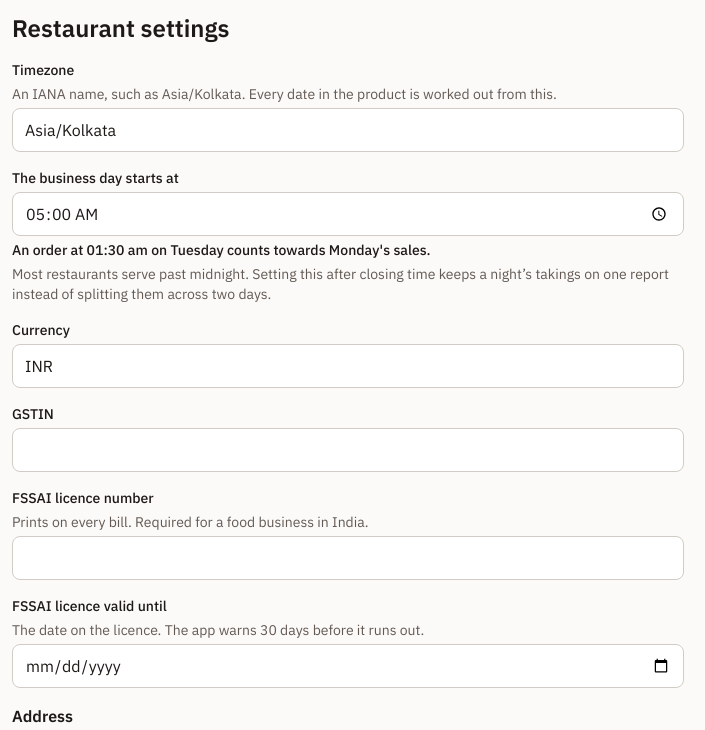
Test: the business day start › re-explains when the value changes, rather than describing the saved one
Expected: the text "An order at 01:30 am" is shown, [12,241,431,259]
Replace the text in the time field labelled "The business day starts at" with "01:00" at (348, 214), box [12,192,684,236]
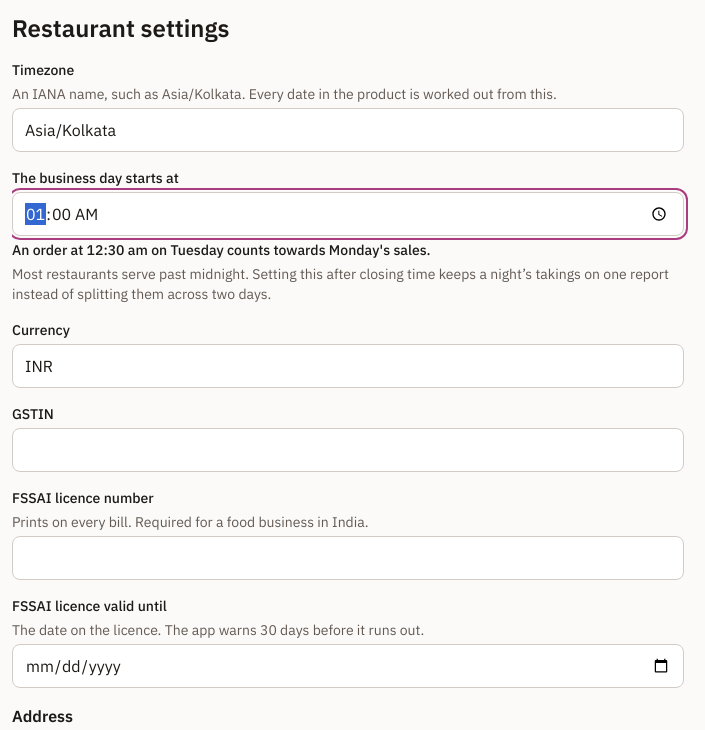
Expected: the text "An order at 01:30 am" is not shown
Result: the text "An order at 12:30 am on Tuesday counts towards Monday's sales." is shown at [12,241,431,259]
